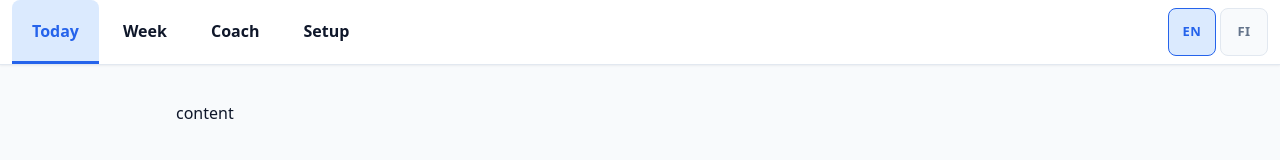
it: AppShell language switcher › switches chrome to Finnish and sets html lang
Expected: the link "Today" is shown, [12, 0, 99, 64]
Step 1. Click the button "FI" → [1244, 32], box [1220, 8, 1268, 56]
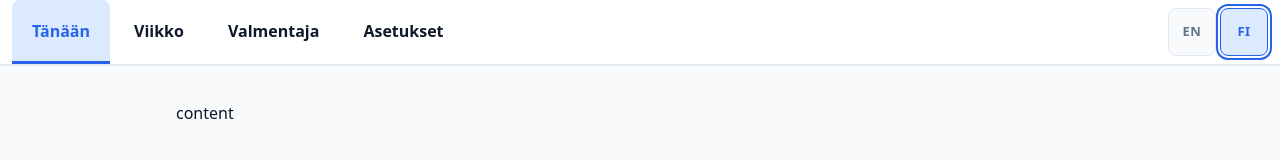
Result: the link "Tänään" is shown at [12, 0, 110, 64]
Result: the link "Viikko" is shown at [134, 20, 184, 42]
Result: the link "Valmentaja" is shown at [228, 20, 319, 42]
